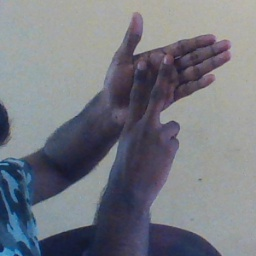N: (100, 9, 236, 165)
